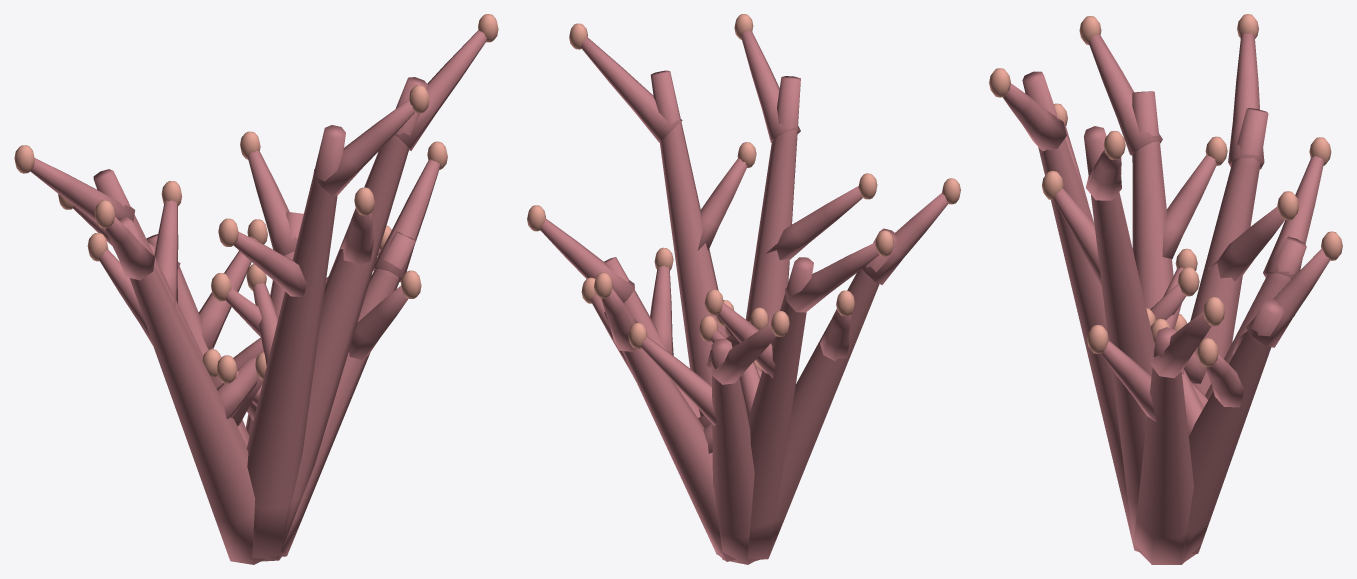
File: coral.glb
3 views of the same model, side by side, from view 1: azimuth 30°, elevation 25°; view 2: azimuth 150°, elevation 25°; view 3: azimuth 270°, elevation 25° (orthographic). The views are drawn at different scales.
Visible parts, largest first — view 1: Branching coral; view 2: Branching coral; view 3: Branching coral.
Part boxes in pixels (<box>): Branching coral: <box>14,14,498,564</box>; Branching coral: <box>527,14,960,564</box>; Branching coral: <box>989,14,1342,564</box>.
Bounding box in the file's own units: 1.04 × 1.21 × 0.7382.
